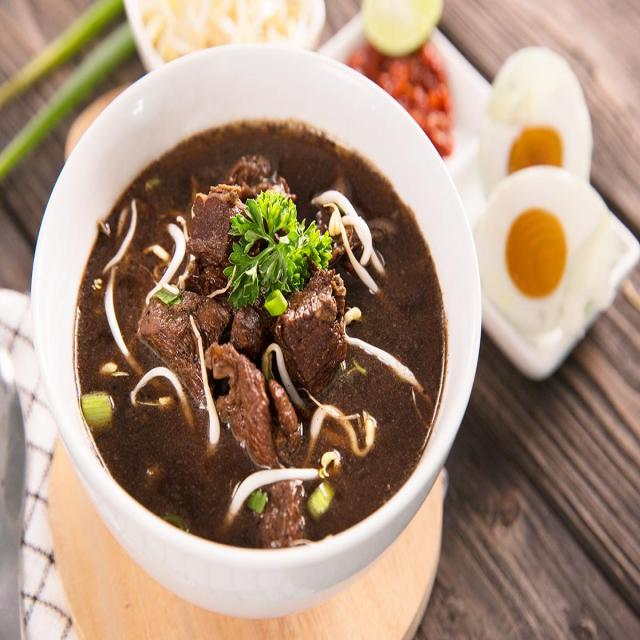Rawon: (64, 117, 432, 524)
